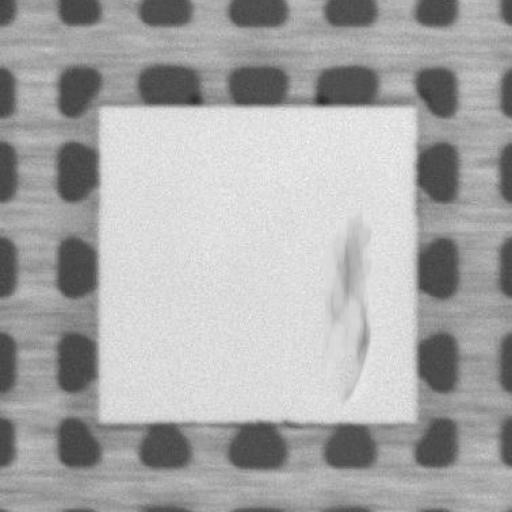DIE_INK: (316, 171, 373, 406)
